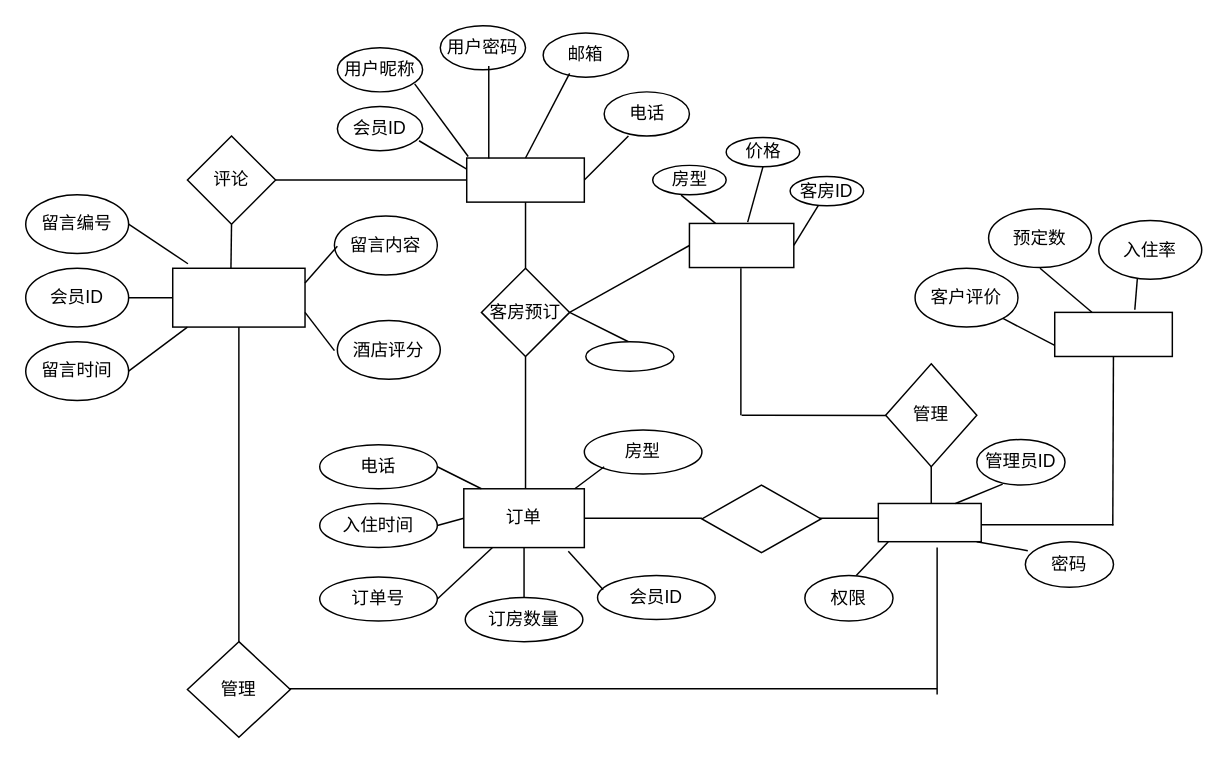
This 1227x763 diagram has some shape labels left out. Each missing label, with the centre of its shape:
"付定金" goes at (760,518).
"客房信息" goes at (741,245).
"留言" goes at (238,297).
"管理员" goes at (929,522).
"账单" goes at (1112,333).
"顾客" goes at (524,179).
"预定日期" goes at (629,355).
